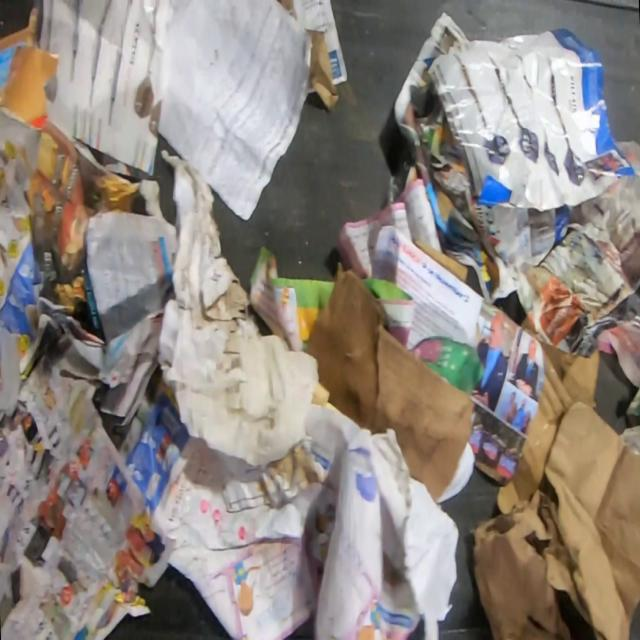cardboard: (301, 266, 478, 506), (470, 400, 640, 640), (154, 145, 262, 371), (495, 312, 601, 516), (0, 1, 61, 134), (411, 334, 484, 394), (306, 28, 341, 112), (413, 238, 469, 283), (276, 0, 292, 15)
soft_plastic: (159, 308, 319, 468)
